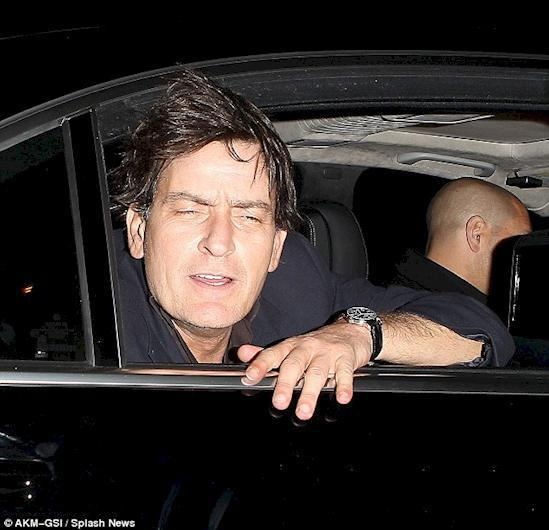Drunk: (157, 124, 273, 327)
